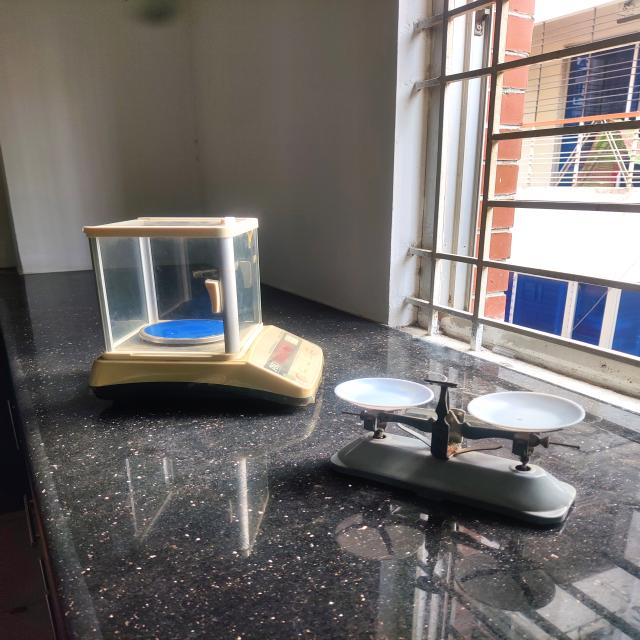Mechanical_Balance_Scale: (316, 352, 604, 549)
Precision_Weight_Scale: (73, 197, 337, 424)
